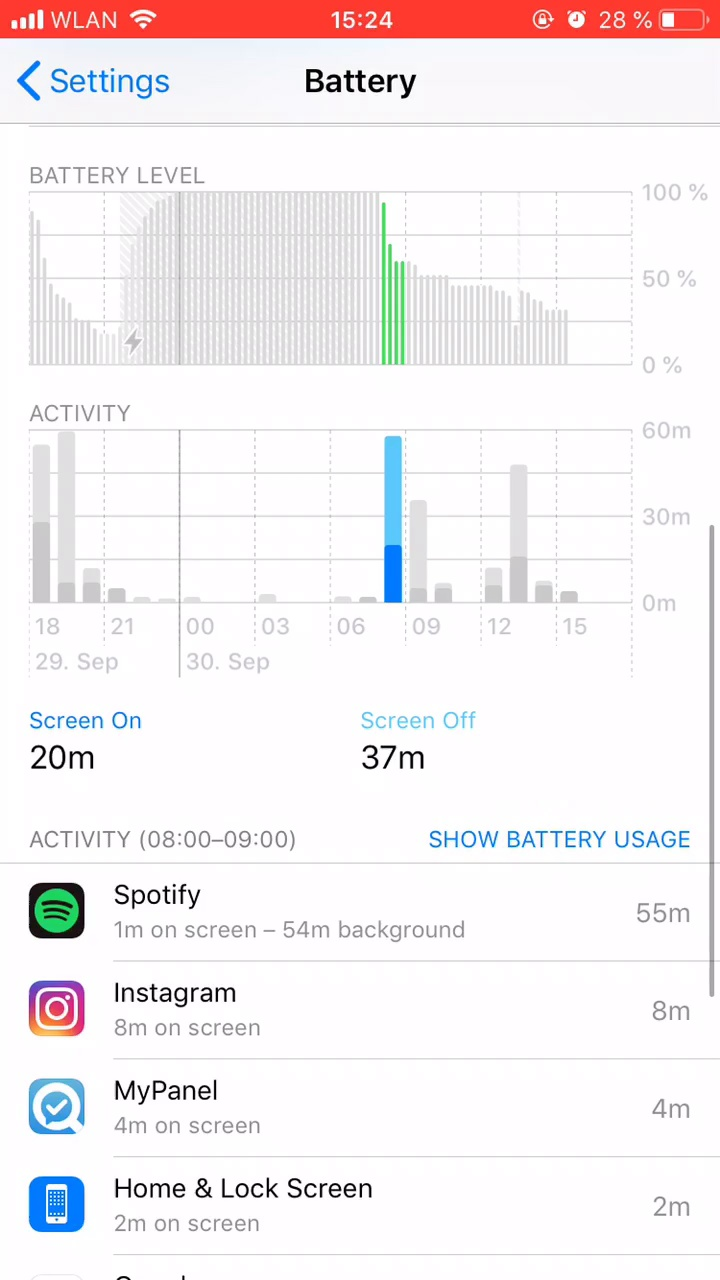activity: (19, 819, 344, 855)
app: (16, 873, 702, 955), (26, 973, 706, 1042), (19, 1074, 699, 1143), (22, 1168, 702, 1237)
